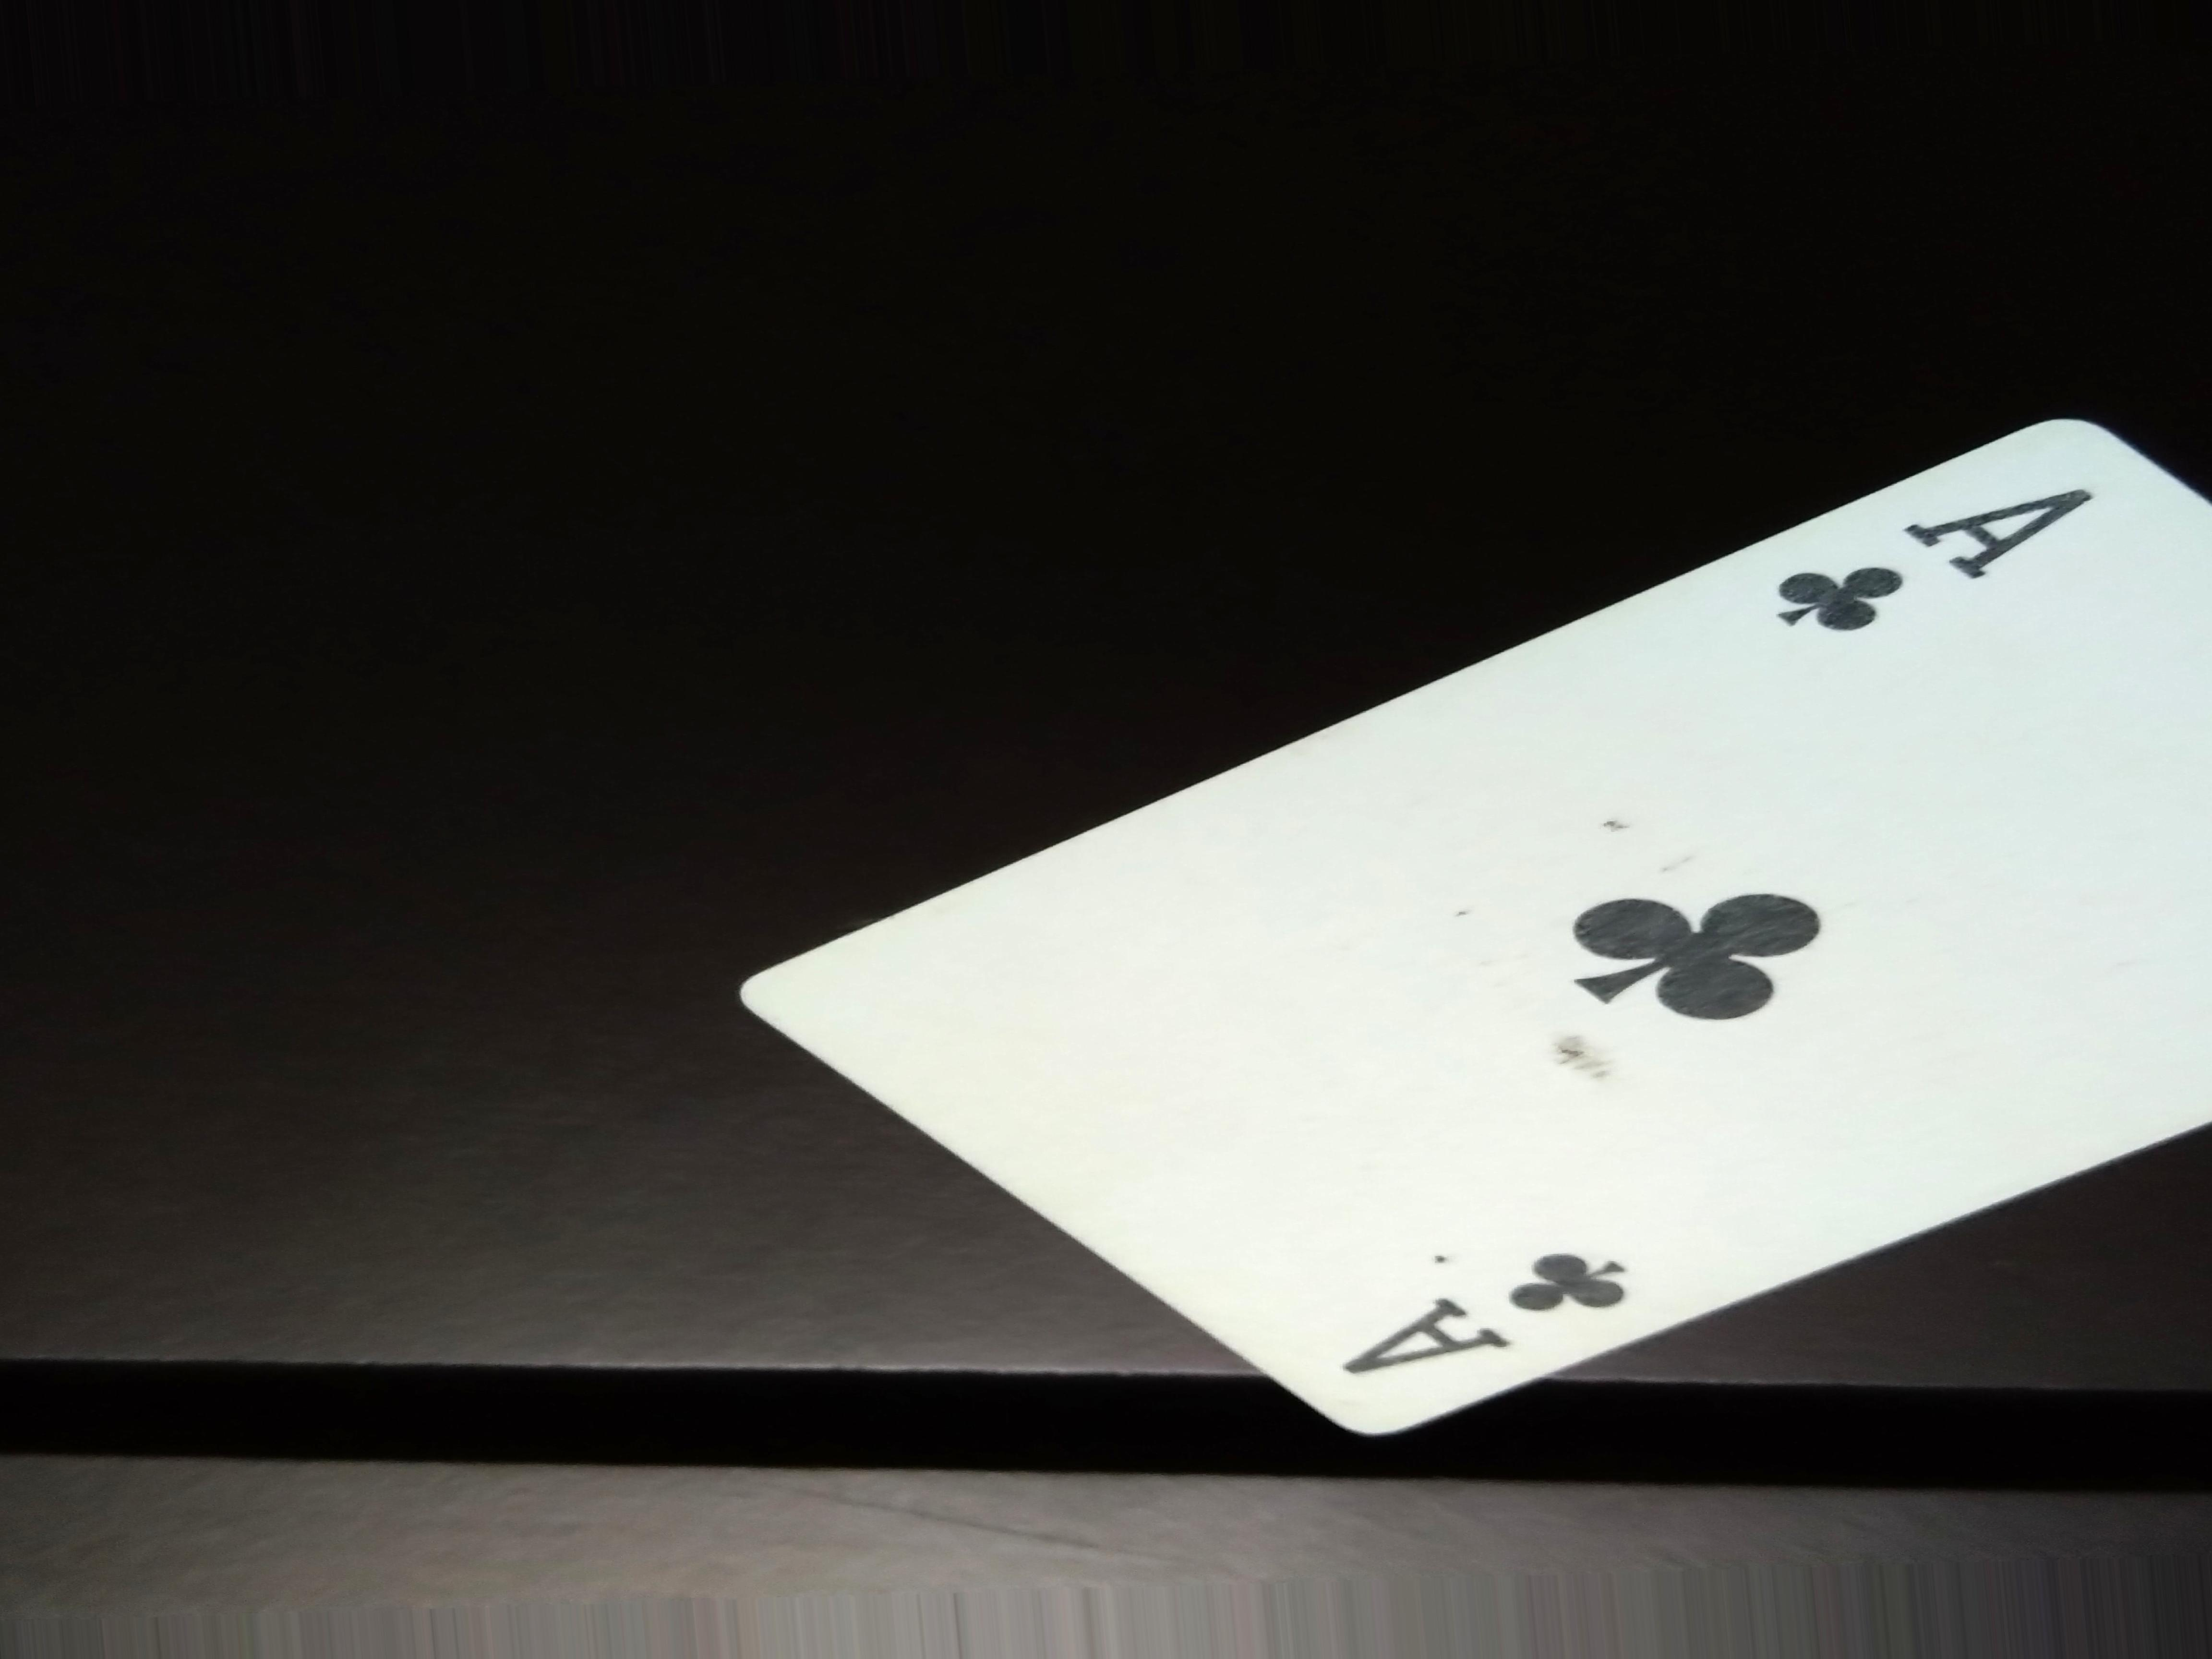AC: (1332, 1182, 1649, 1389)
